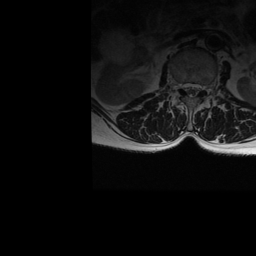CCS_normal: (188, 76, 195, 105)
LFS_normal: (201, 76, 207, 97)
LLS_normal: (195, 77, 201, 100)
RFS_normal: (175, 75, 182, 95)
RLS_normal: (182, 76, 188, 99)
